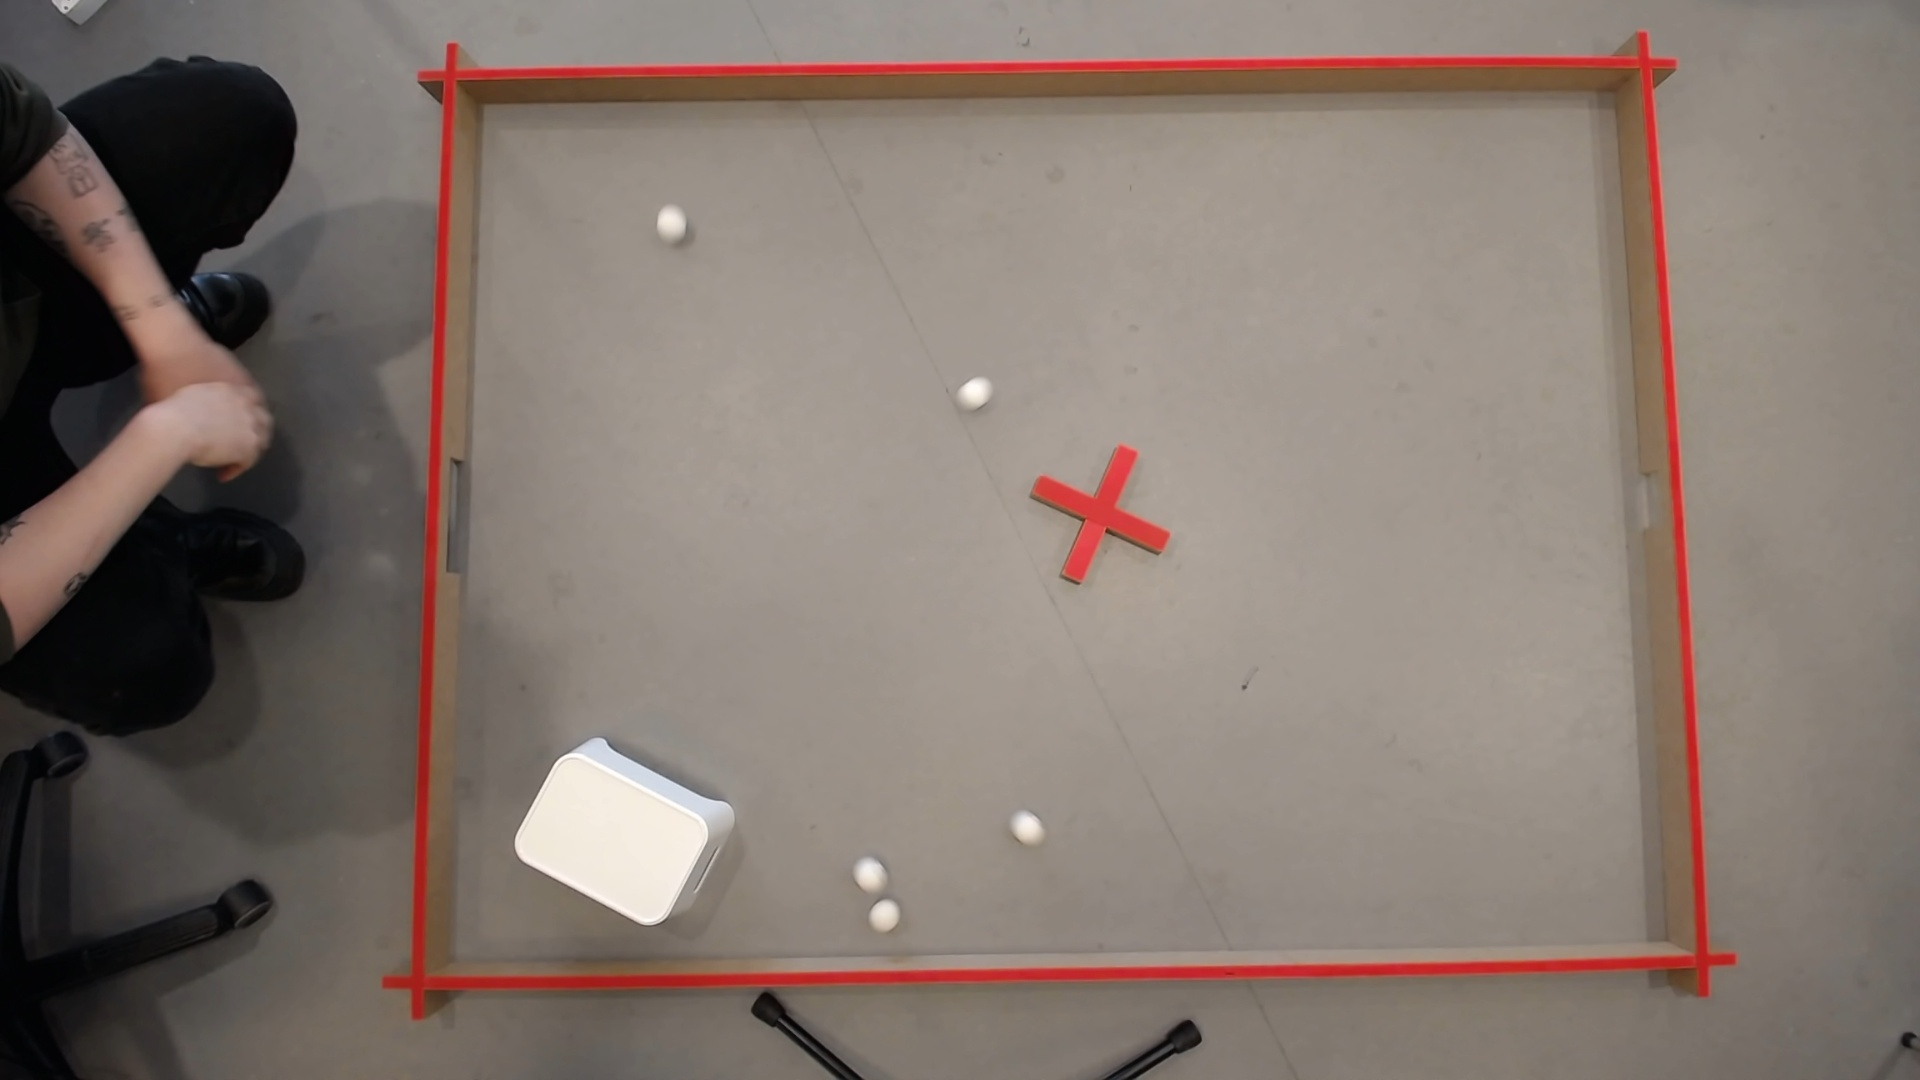balls: (505, 721, 732, 935), (138, 376, 228, 448), (956, 371, 993, 407), (651, 202, 687, 239), (851, 855, 885, 890), (872, 901, 897, 927)
car: (1010, 807, 1043, 843)
